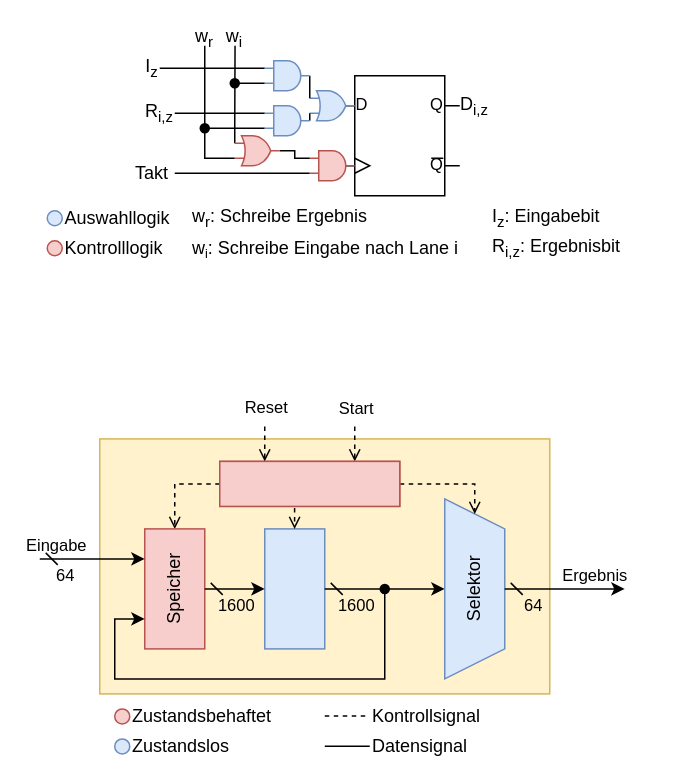
The diagram is 681 pixels wide and 783 high, and some of its shapes have lost their labels. The shapes that lost their labels are listed below. From the top down, each one's box as (x1, y1, x2, y2) in pixels, then its label:
(218, 460, 400, 506): Zustandsautomat
(263, 527, 325, 649): Rnd
